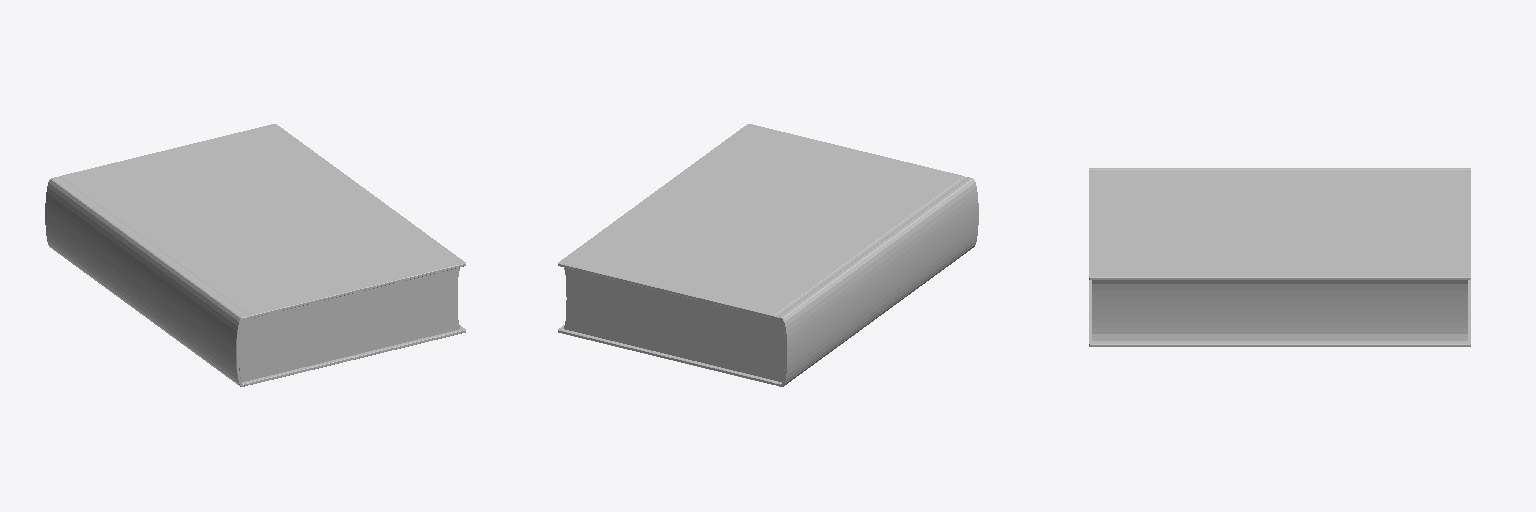
Rendered from Book_by_Peter_Iliev_obj.obj.
3 renders of one model, left to right at view 1: azimuth 30°, elevation 25°; view 2: azimuth 150°, elevation 25°; view 3: azimuth 270°, elevation 25°, orthographic.
Parts seen in each view (by area): view 1: Book_by_Peter_Iliev_obj; view 2: Book_by_Peter_Iliev_obj; view 3: Book_by_Peter_Iliev_obj.
Part boxes in pixels (x1,y1,x2,y2): Book_by_Peter_Iliev_obj: (45, 124, 465, 386); Book_by_Peter_Iliev_obj: (558, 124, 978, 386); Book_by_Peter_Iliev_obj: (1089, 168, 1470, 346).
Bounding box in the file's own units: 10.92 × 3.14 × 15.68.